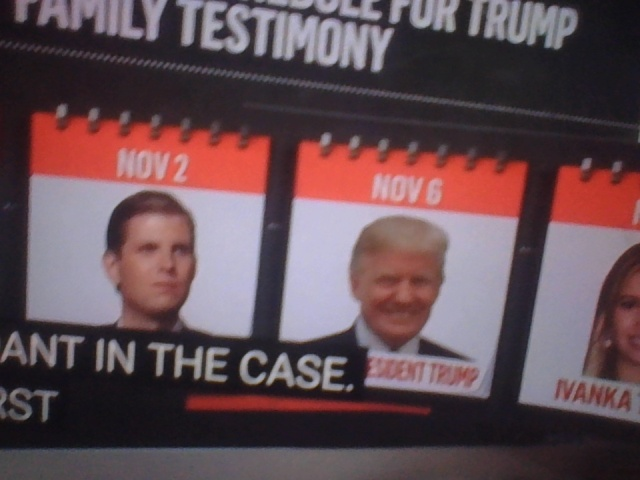fake: (110, 178, 208, 317)
